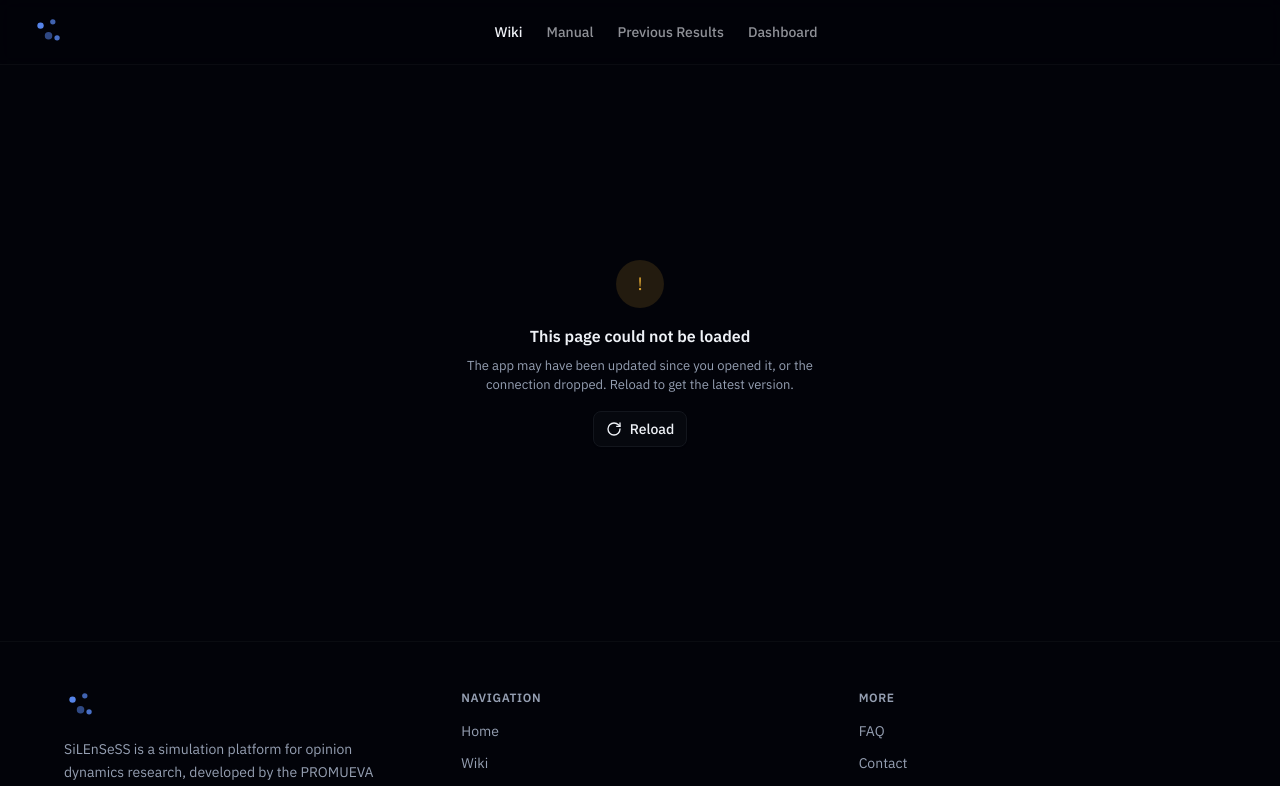
Test: LandingLayout — lazy pages (#130) › clears a failed page's error when navigating to another page
The image size is (1280, 786).
Expected: the message shows "This page could not be loaded", [530, 326, 750, 346]
Click the link "Previous Results". click: click(671, 32)
box: [618, 22, 724, 42]
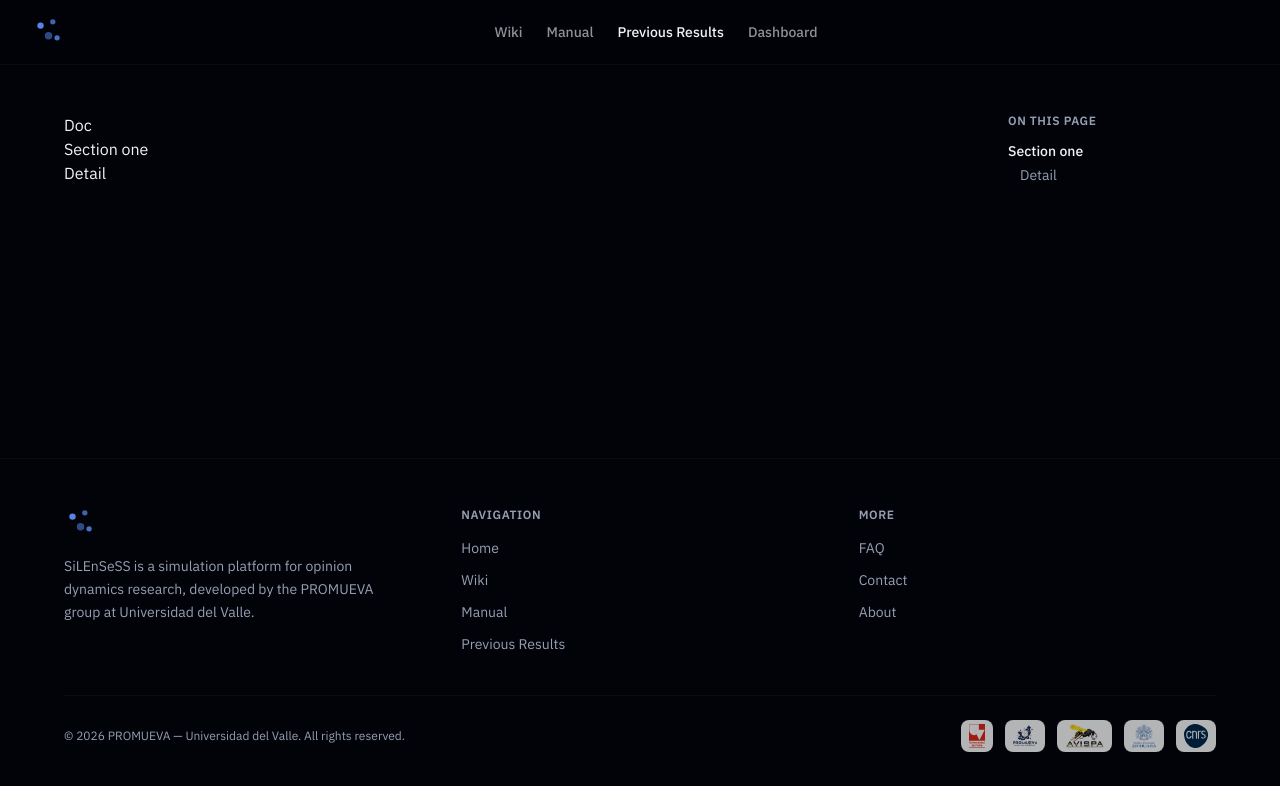
Expected: the heading "Doc" is shown, [64, 115, 92, 135]
Expected: the message is gone
